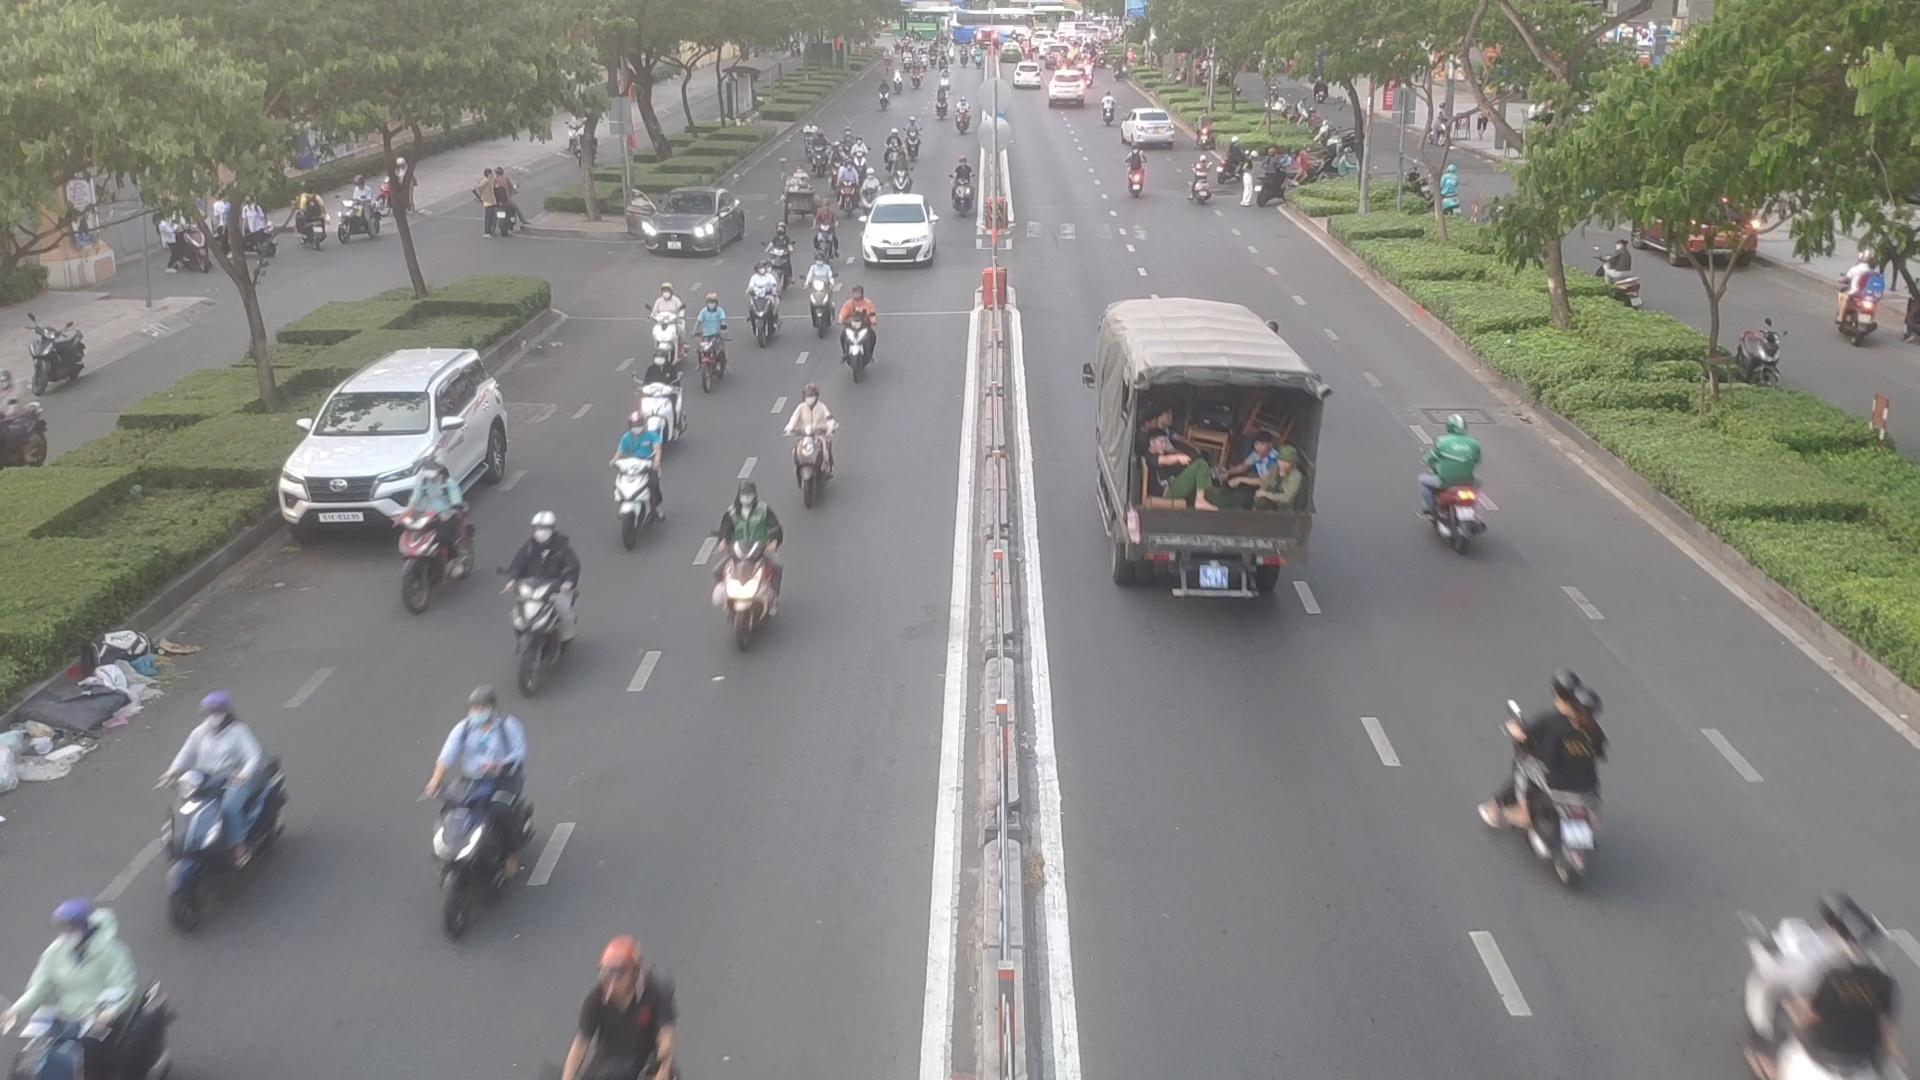car: (1075, 295, 1323, 616), (274, 347, 516, 535), (628, 190, 750, 261), (858, 196, 939, 266)
motorbike: (1700, 876, 1907, 1080), (1481, 661, 1607, 926), (0, 909, 179, 1080), (418, 691, 535, 922), (145, 703, 293, 882), (495, 513, 585, 680), (711, 462, 783, 642), (382, 468, 458, 616), (1422, 406, 1489, 558), (785, 378, 840, 498), (615, 417, 655, 535), (637, 365, 680, 448), (694, 290, 731, 386), (837, 291, 874, 378), (645, 278, 680, 364), (750, 258, 781, 342), (799, 253, 827, 334), (945, 153, 975, 219), (766, 222, 793, 287), (810, 206, 836, 262), (1120, 146, 1149, 196), (831, 164, 858, 214), (884, 127, 906, 174), (1189, 156, 1211, 200), (894, 153, 913, 202), (861, 166, 880, 214), (905, 120, 924, 160), (811, 135, 829, 174), (828, 144, 845, 185), (800, 125, 820, 160), (851, 137, 862, 167)
